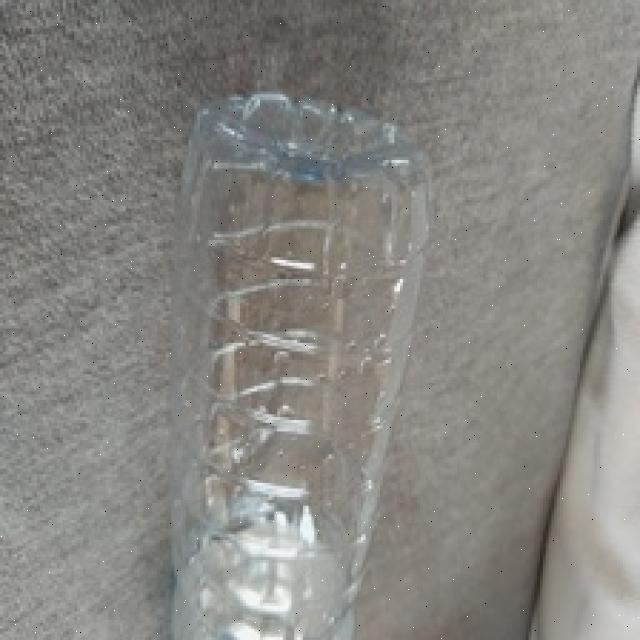bottle: (142, 30, 472, 640)
